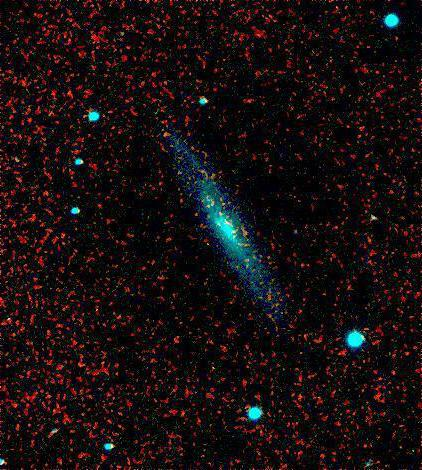star: (151, 121, 181, 151)
